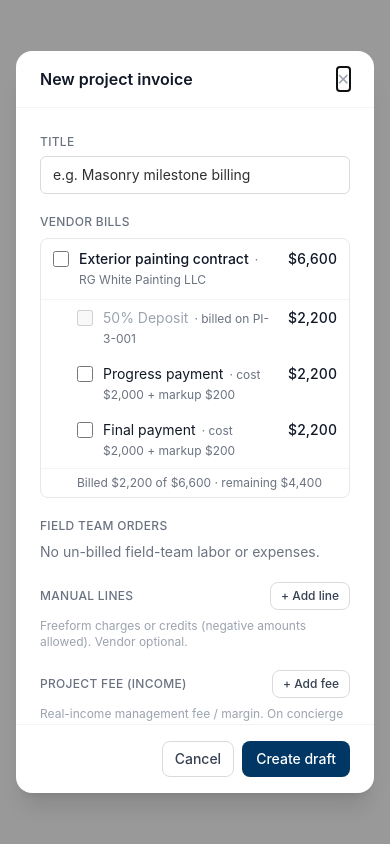
ProjectInvoiceBuilderModal — vendor bill line items › select-all goes indeterminate when only some remaining lines are picked
Click the checkbox labelled "Progress payment· cost $2,000 + markup $200 $2,200" at [85, 374], box x1=77 y1=366 x2=93 y2=382
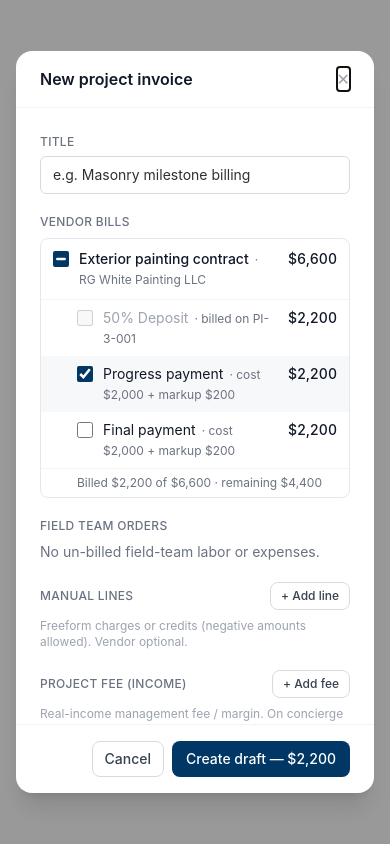
Expected: the checkbox named "Select all remaining lines" is not checked, x1=53 y1=251 x2=69 y2=267
Click the checkbox labelled "Final payment· cost $2,000 + markup $200 $2,200" at [85, 430], box x1=77 y1=422 x2=93 y2=438
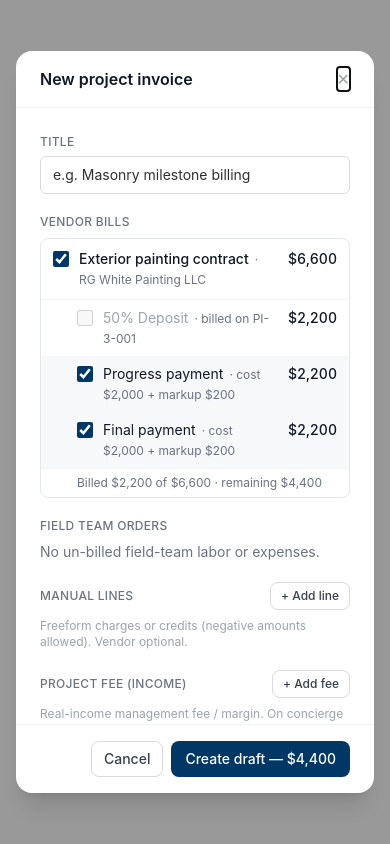
Now the checkbox named "Select all remaining lines" is checked, box x1=53 y1=251 x2=69 y2=267
